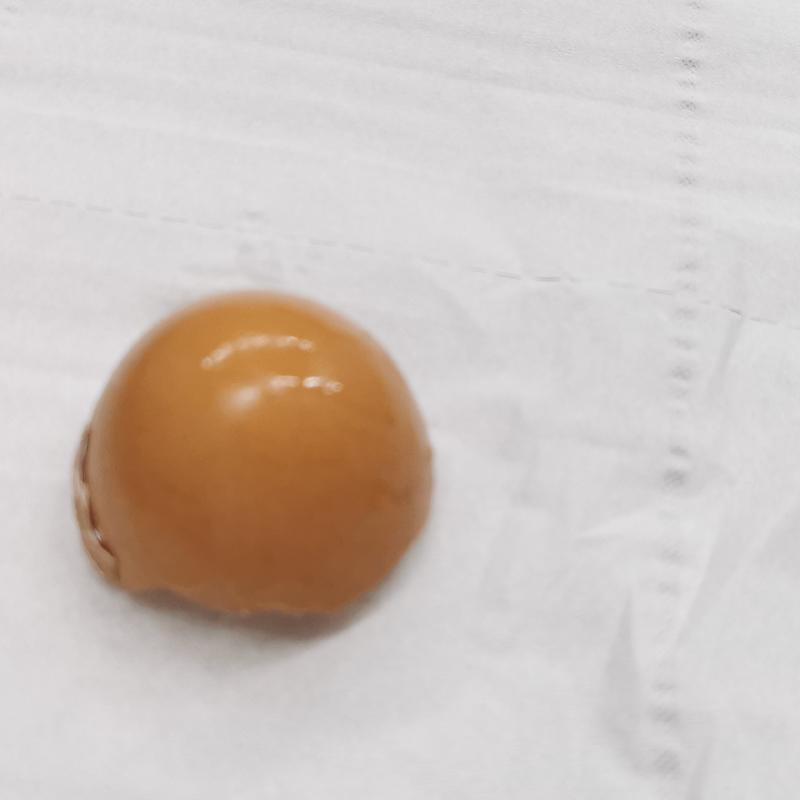eggshell: (65, 288, 439, 632)
